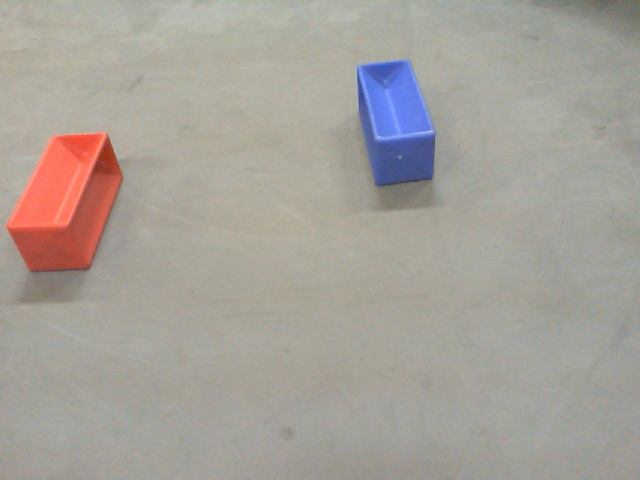BlueSample: (350, 56, 440, 190)
RedSample: (3, 124, 124, 287)
